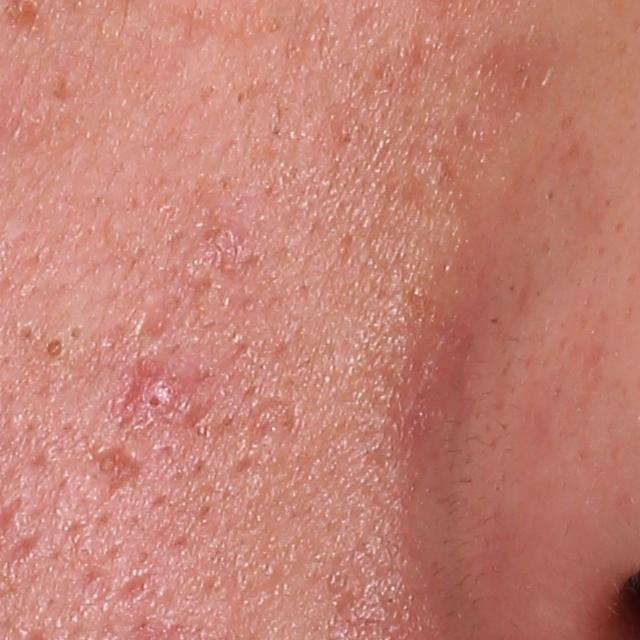atrophic_scar: (235, 393, 297, 442), (133, 287, 188, 341), (91, 449, 140, 506), (0, 530, 43, 568), (110, 574, 153, 603), (182, 395, 218, 429)
comedo: (40, 333, 69, 363), (65, 321, 89, 345), (185, 2, 208, 23)
papule: (124, 363, 186, 421)
